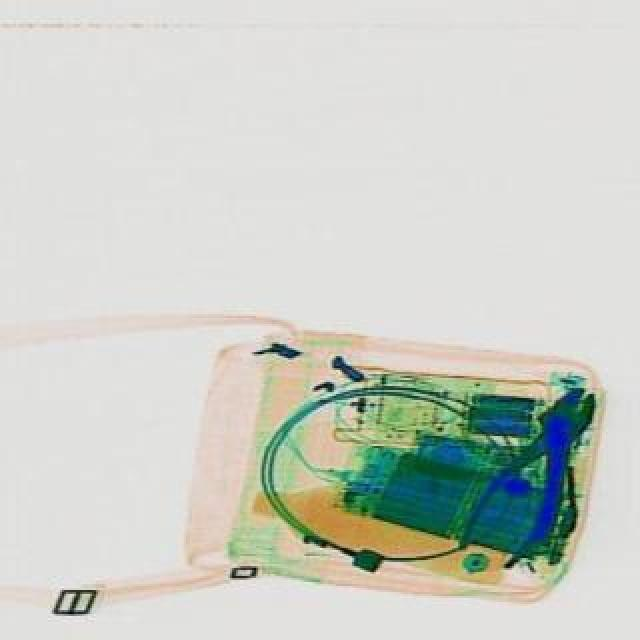wrench: (448, 372, 616, 576)
